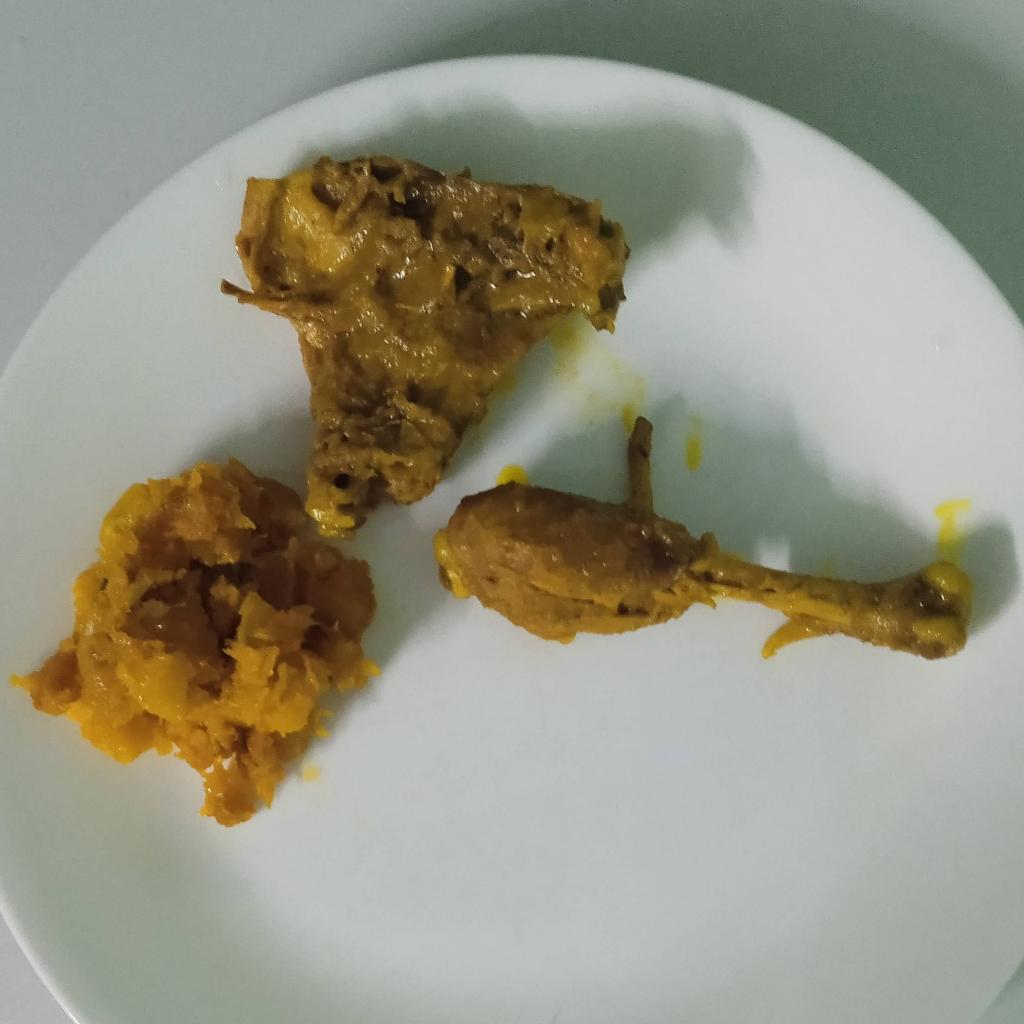chicken: (228, 160, 969, 659)
kumra-vaji: (25, 465, 376, 810)
